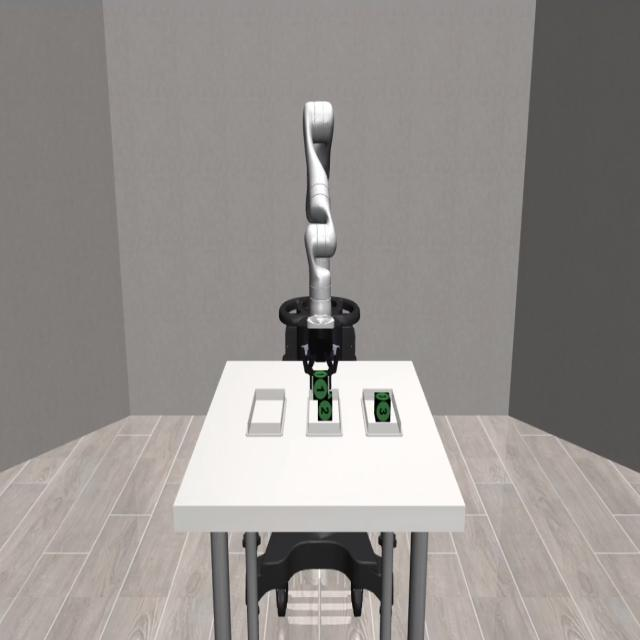cube1: (313, 369, 328, 399)
cube2: (320, 392, 332, 420)
cube3: (375, 392, 391, 422)
